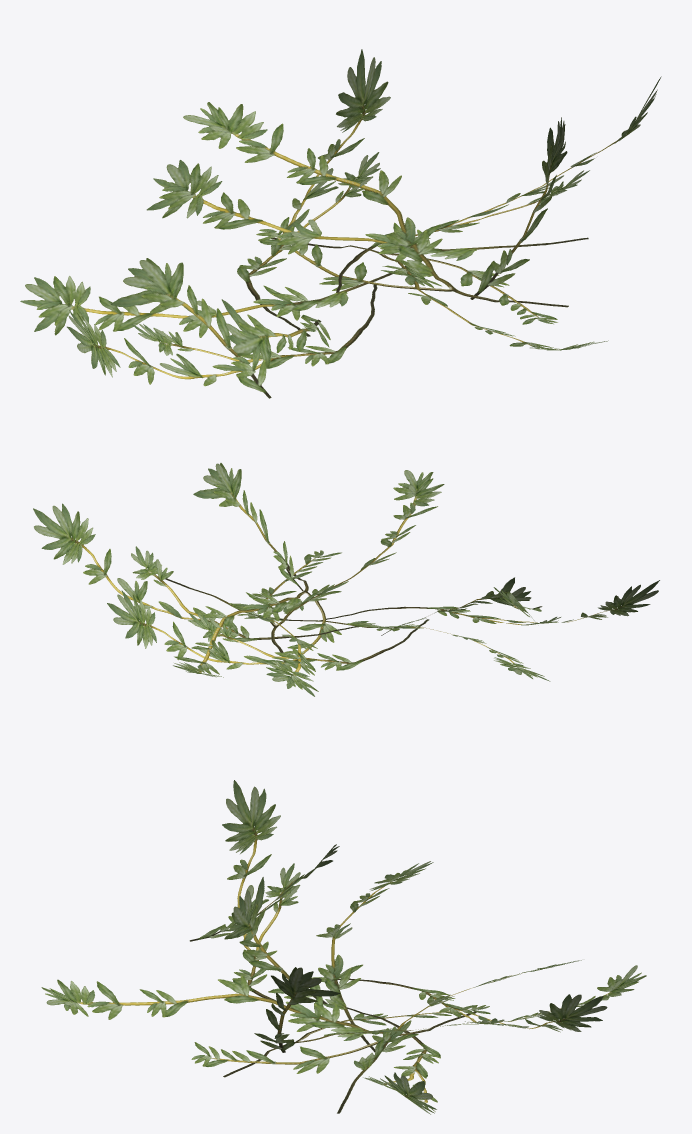
Rendered from weedwater_lod0.fbx.
The picture shows the model from 3 angles, top to bottom: view 1: azimuth 30°, elevation 25°; view 2: azimuth 150°, elevation 25°; view 3: azimuth 270°, elevation 25°; orthographic projection. The views are drawn at different scales.
Visible parts, largest first — view 1: Mesh Object; view 2: Mesh Object; view 3: Mesh Object.
Part boxes in pixels (x1,y1,x2,y2): Mesh Object: (20, 49, 661, 398); Mesh Object: (33, 463, 659, 696); Mesh Object: (41, 780, 646, 1114).
Size of the model in its own units: 3.49 by 0.891 by 3.2.
